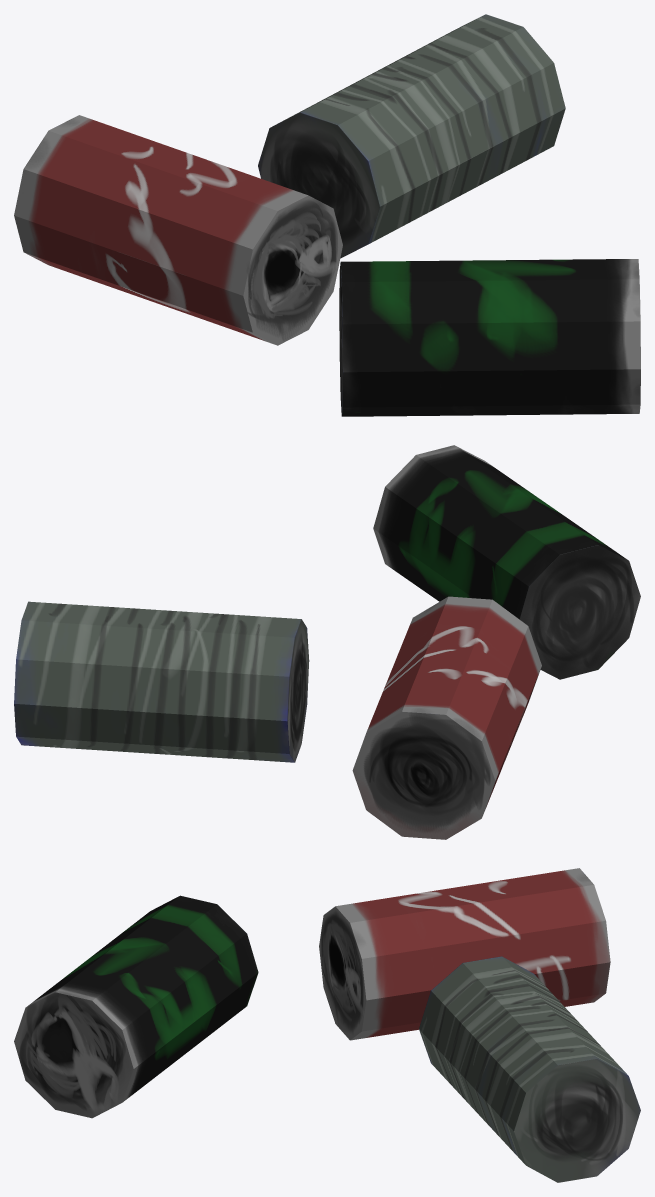
Rendered from Dosen.fbx.
3 renders of one model, top to bottom at view 1: azimuth 30°, elevation 25°; view 2: azimuth 150°, elevation 25°; view 3: azimuth 270°, elevation 25°, orthographic. The views are drawn at different scales.
Parts seen in each view (by area): view 1: Cylinder.001; view 2: Cylinder.001; view 3: Cylinder.001.
Part boxes in pixels (box(x1,y1,x2,y2)): Cylinder.001: box(14, 14, 640, 416); Cylinder.001: box(14, 445, 640, 839); Cylinder.001: box(14, 868, 640, 1182).
Bounding box in the file's own units: 116 × 28.53 × 138.
